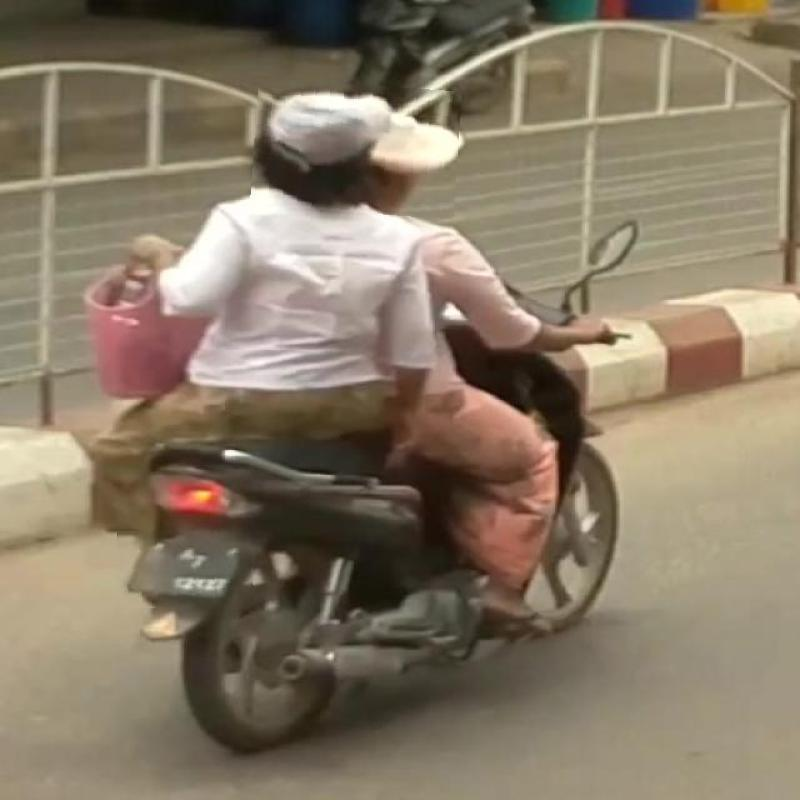nohelmet: (252, 82, 461, 216), (118, 526, 253, 608)
